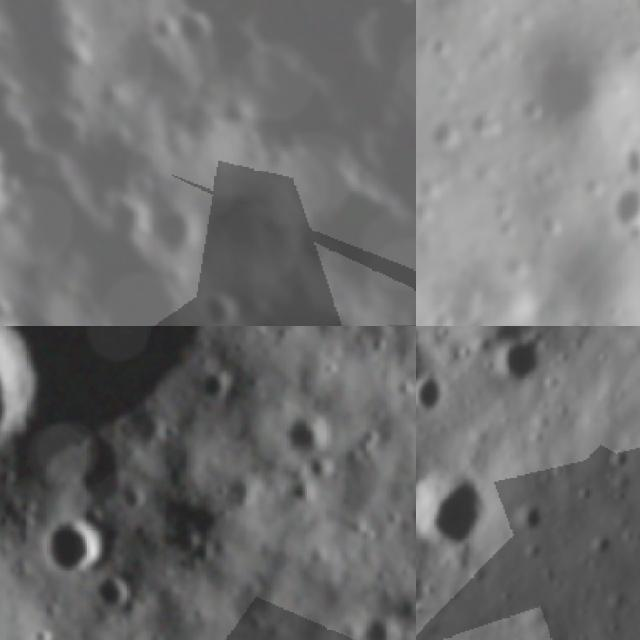crater: (0, 331, 89, 508), (18, 486, 132, 597), (512, 30, 621, 142), (416, 444, 510, 567), (133, 185, 222, 273), (264, 394, 350, 476), (480, 326, 559, 394), (152, 0, 226, 67), (76, 556, 148, 624), (0, 122, 33, 251), (214, 454, 276, 515), (438, 263, 494, 326), (345, 592, 416, 640), (188, 277, 254, 326), (416, 358, 460, 424), (599, 173, 640, 238), (118, 162, 169, 212), (506, 492, 554, 542), (599, 436, 640, 477), (584, 523, 620, 560), (416, 528, 424, 587)
